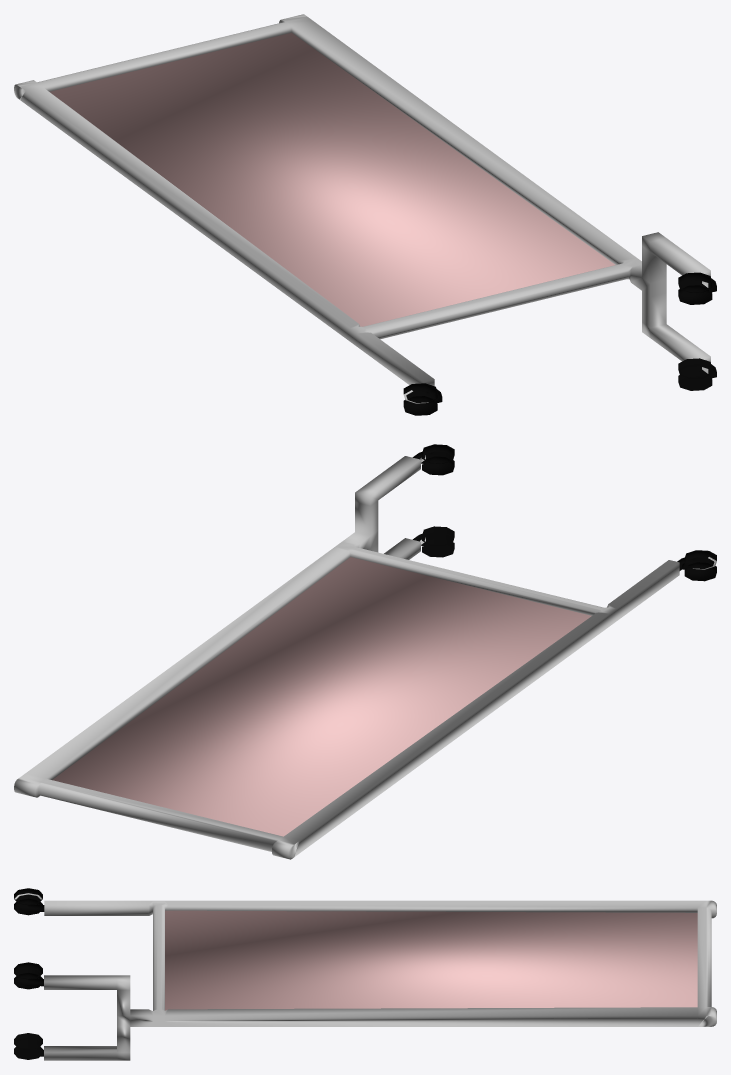
The picture shows the model from 3 angles, top to bottom: view 1: azimuth 30°, elevation 25°; view 2: azimuth 150°, elevation 25°; view 3: azimuth 270°, elevation 25°; orthographic projection. The views are drawn at different scales.
Visible parts, largest first — view 1: Cube; view 2: Cube; view 3: Cube.
Boxes of the visible parts, box(x1,y1,x2,y2) form: Cube: box(14, 14, 716, 415); Cube: box(14, 444, 716, 859); Cube: box(14, 888, 716, 1060).
Bounding box in the file's own units: 72.78 × 22.97 × 171.
